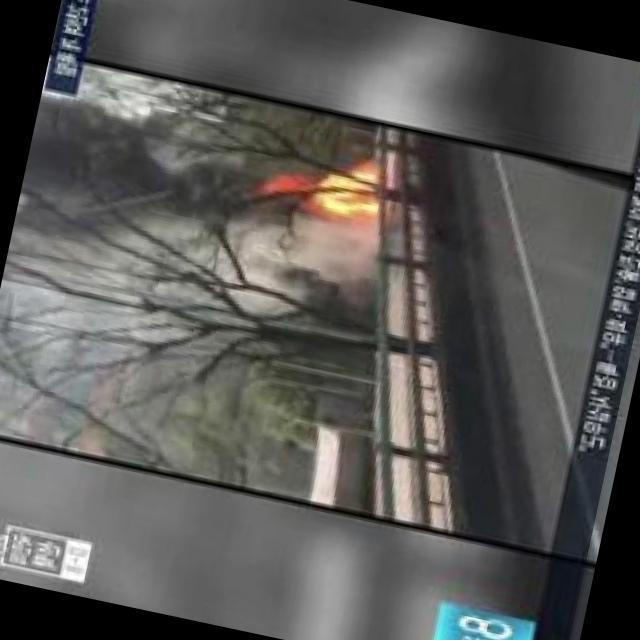Fire: (276, 144, 393, 232)
